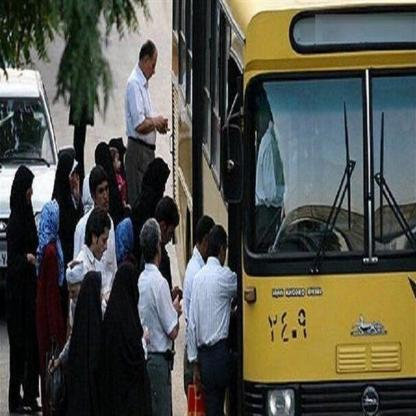Bus: (169, 0, 416, 416)
Car: (0, 63, 74, 276)
